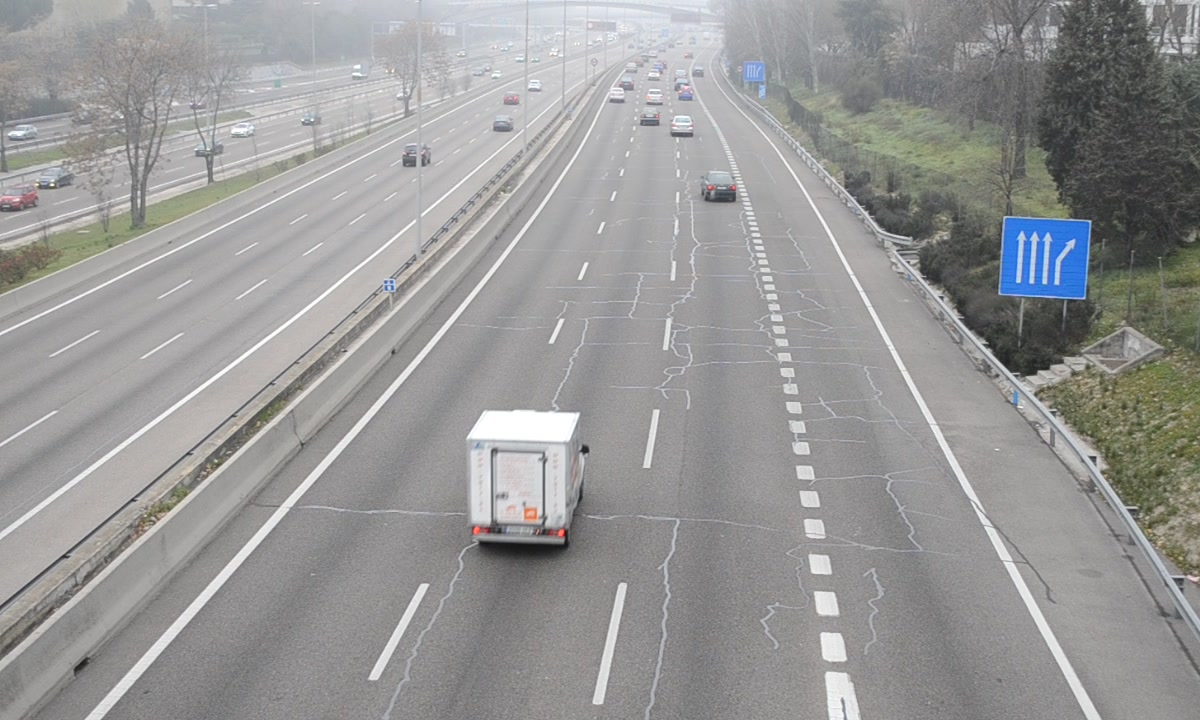car: (704, 168, 738, 202)
small-truck: (468, 411, 588, 549)
